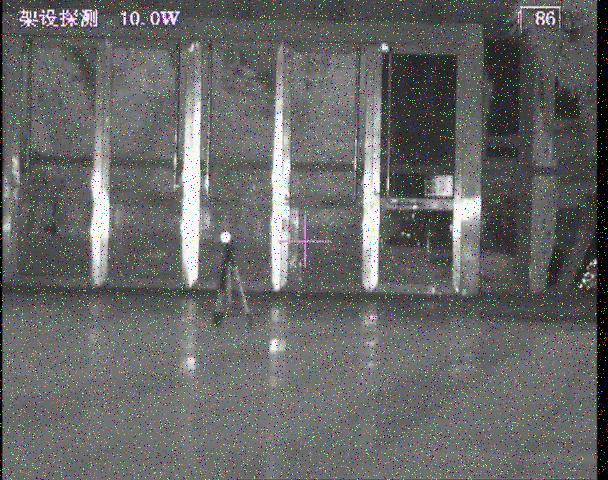my: (219, 231, 232, 244)
